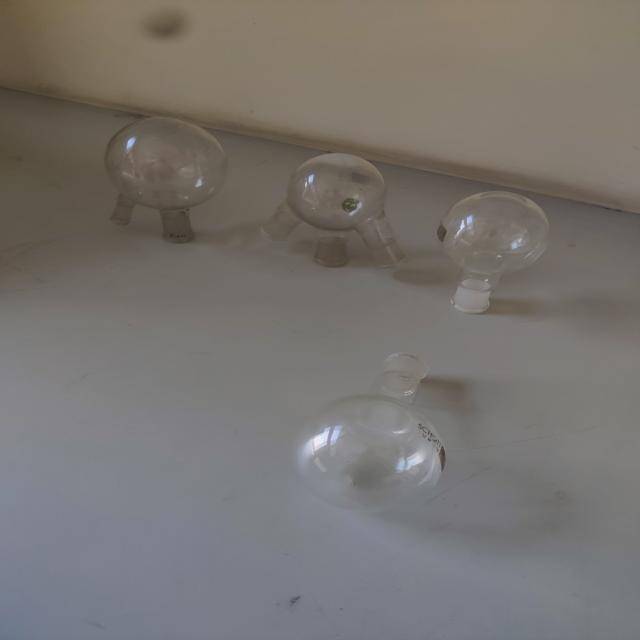Round_Bottom_Flask_Borosilicate_Glass_1_Neck: (259, 327, 490, 519), (433, 167, 560, 331)
Round_Bottom_Flask_Borosilicate_Glass_2_Neck: (77, 104, 253, 262)
Round_Bottom_Flask_Borosilicate_Glass_3_Neck: (250, 112, 420, 285)
